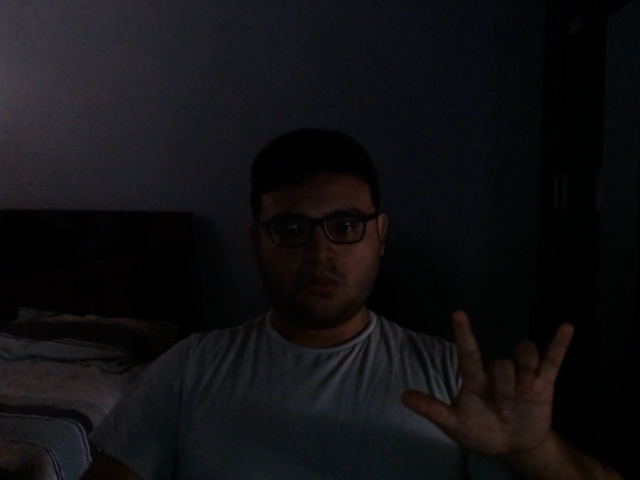I love you: (399, 301, 575, 466)
